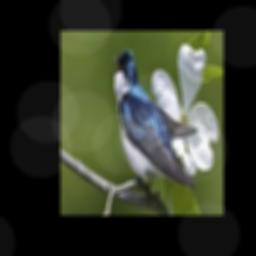Swallow: (110, 48, 197, 193)
